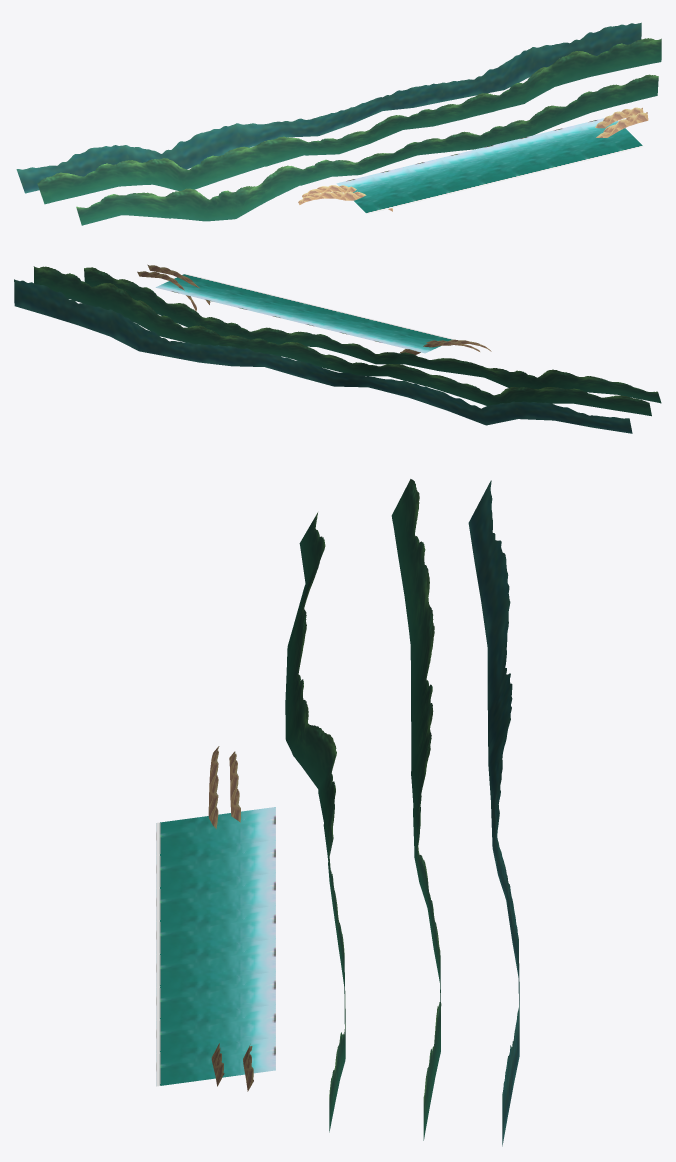
File: Level 6 Deep Lake Horizon.FBX
3 renders of one model, top to bottom at view 1: azimuth 30°, elevation 25°; view 2: azimuth 150°, elevation 25°; view 3: azimuth 270°, elevation 25°, orthographic. The views are drawn at different scales.
Visible parts, largest first — view 1: Horizon Level 6, Horizon Far, Water Horizon, Horizon Sand; view 2: Horizon Level 6, Horizon Far, Water Horizon, Horizon Sand; view 3: Water Horizon, Horizon Level 6, Horizon Far, Horizon Sand.
Part boxes in pixels (x1,y1,x2,y2): Horizon Level 6: (37,38,661,225); Horizon Far: (16,22,641,193); Water Horizon: (336,118,643,213); Horizon Sand: (298,107,648,211); Horizon Level 6: (33,266,661,416); Horizon Far: (14,279,632,433); Water Horizon: (155,274,454,353); Horizon Sand: (137,264,491,354); Water Horizon: (156,807,275,1086); Horizon Level 6: (285,479,441,1140); Horizon Far: (468,480,519,1146); Horizon Sand: (208,746,253,1091).
Size of the model in its own units: 36983 by 9492 by 4069.
